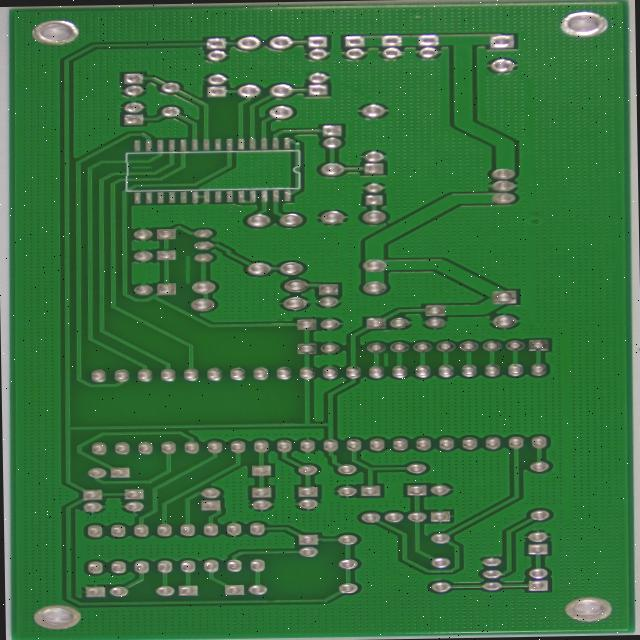spurious_copper: (156, 254, 186, 288), (110, 161, 142, 175), (369, 353, 386, 371)
